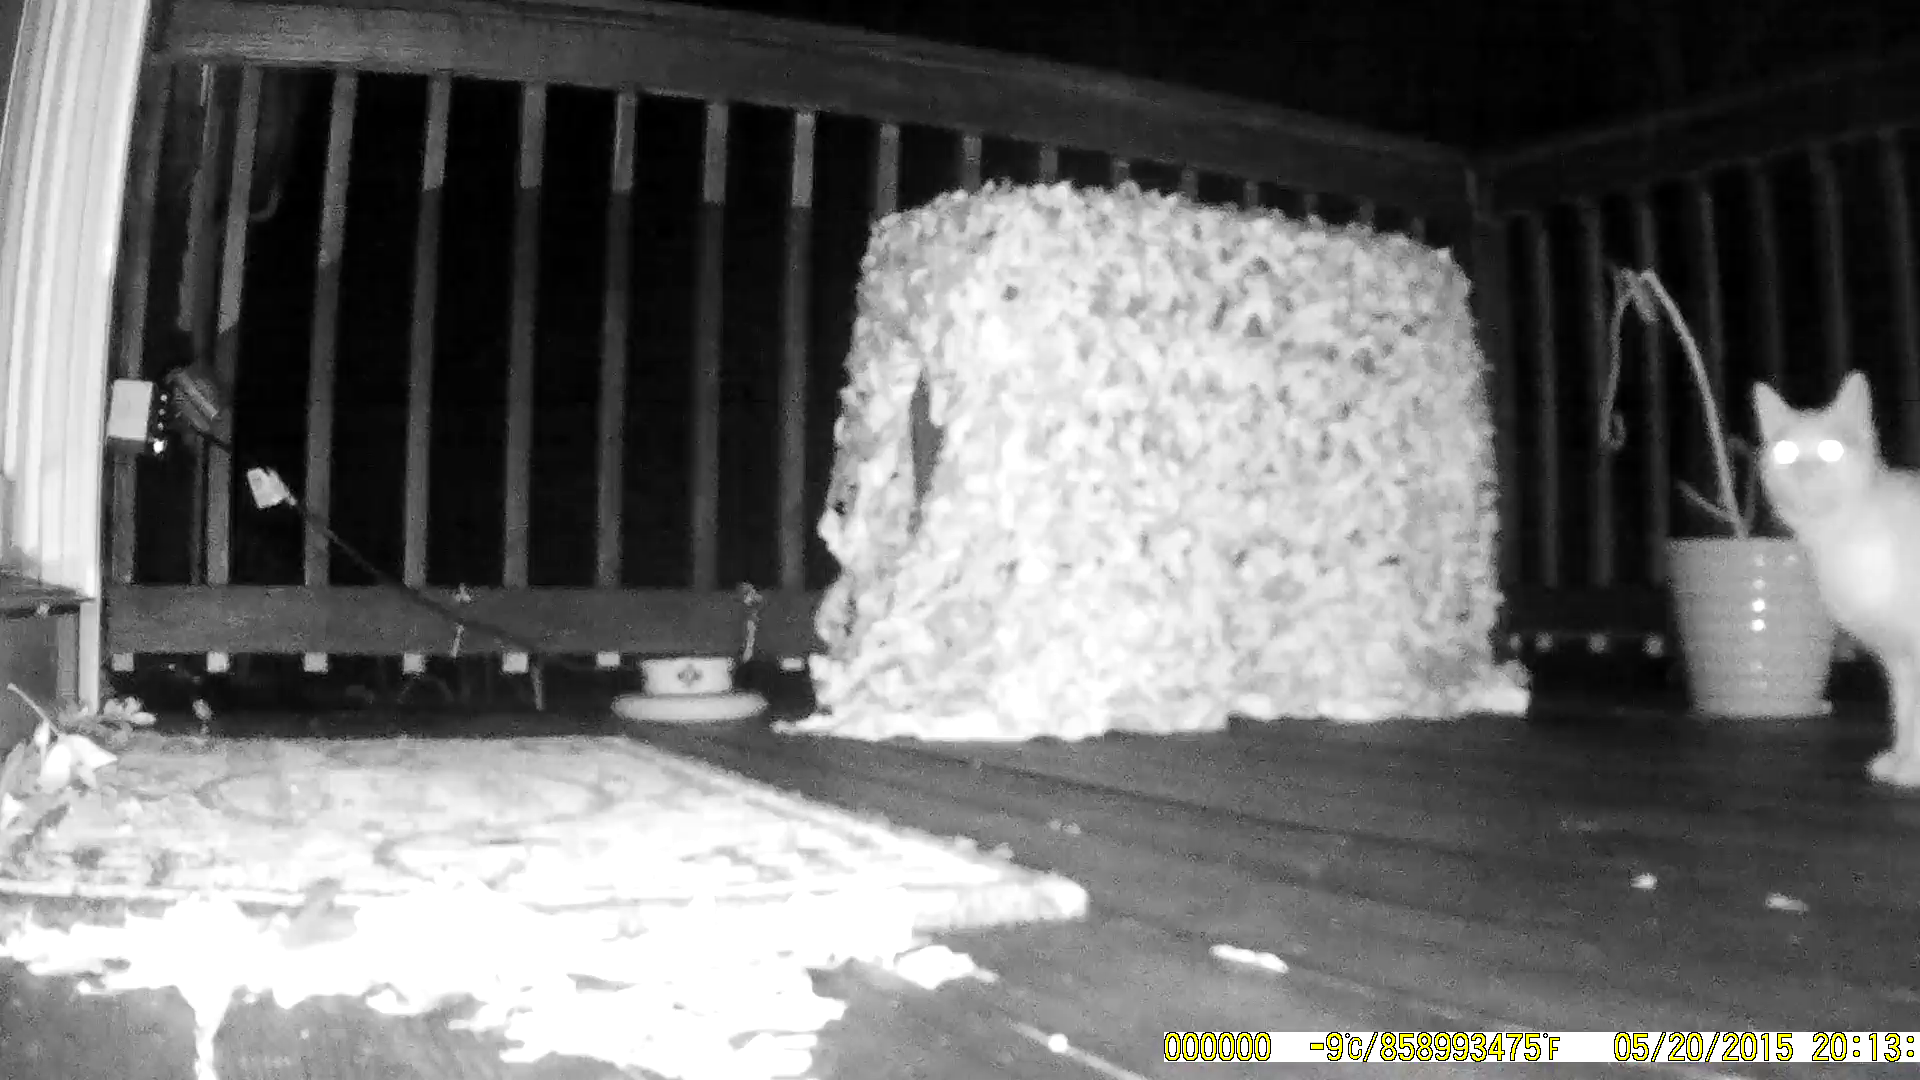house cat: (1730, 301, 1920, 828)
